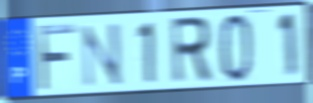0: (218, 12, 254, 85)
1: (277, 12, 300, 79), (135, 20, 157, 86)
F: (36, 23, 78, 94)
N: (80, 20, 124, 89)
R: (168, 14, 214, 87)
